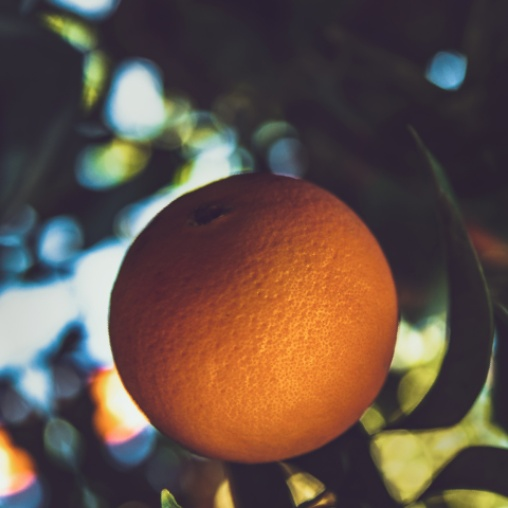orange: (2, 106, 476, 508)
